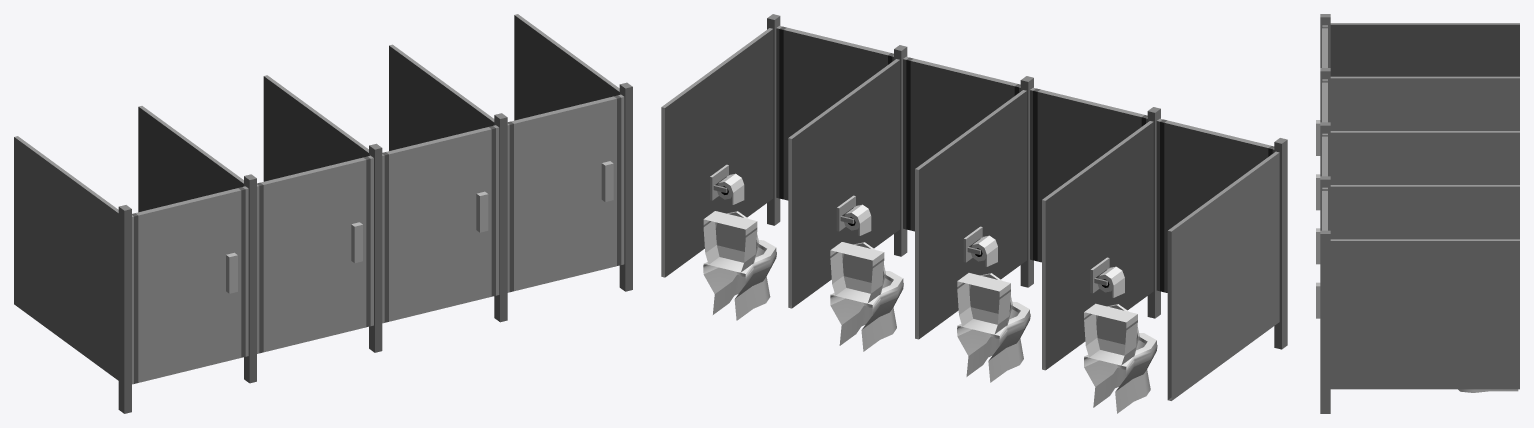
The model's file is SO_ToiletStall_02.fbx.
3 views of the same model, side by side, from view 1: azimuth 30°, elevation 25°; view 2: azimuth 150°, elevation 25°; view 3: azimuth 270°, elevation 25° (orthographic). The views are drawn at different scales.
Parts seen in each view (by area): view 1: SO_ToiletStall_02, SO_Toilet_Door_01, SO_Toilet_Door_02, SO_Toilet_Door_03, SO_Toilet_Door_04; view 2: SO_ToiletStall_02, SO_Toilet_Door_04, SO_Toilet_Door_03, SO_Toilet_Door_02, SO_Toilet_Door_01; view 3: SO_ToiletStall_02, SO_Toilet_Door_02, SO_Toilet_Door_03, SO_Toilet_Door_04, SO_Toilet_Door_01.
Boxes of the visible parts, box(x1,y1,x2,y2) form: SO_ToiletStall_02: box(14, 14, 632, 413); SO_Toilet_Door_01: box(135, 188, 241, 382); SO_Toilet_Door_02: box(260, 157, 366, 352); SO_Toilet_Door_03: box(386, 127, 491, 321); SO_Toilet_Door_04: box(511, 96, 616, 291); SO_ToiletStall_02: box(661, 14, 1287, 413); SO_Toilet_Door_04: box(783, 27, 890, 200); SO_Toilet_Door_03: box(910, 58, 1017, 231); SO_Toilet_Door_02: box(1037, 89, 1144, 262); SO_Toilet_Door_01: box(1164, 120, 1271, 292); SO_ToiletStall_02: box(1320, 14, 1519, 413); SO_Toilet_Door_02: box(1316, 82, 1327, 210); SO_Toilet_Door_03: box(1316, 136, 1327, 264); SO_Toilet_Door_04: box(1316, 191, 1327, 318); SO_Toilet_Door_01: box(1316, 28, 1327, 155).
Bounding box in the file's own units: 9.84 × 3.76 × 3.86.
